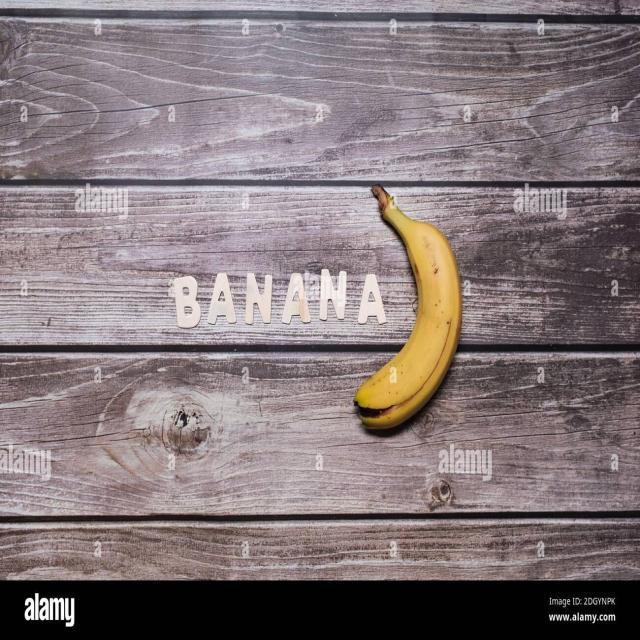Banana: (353, 176, 467, 442)
